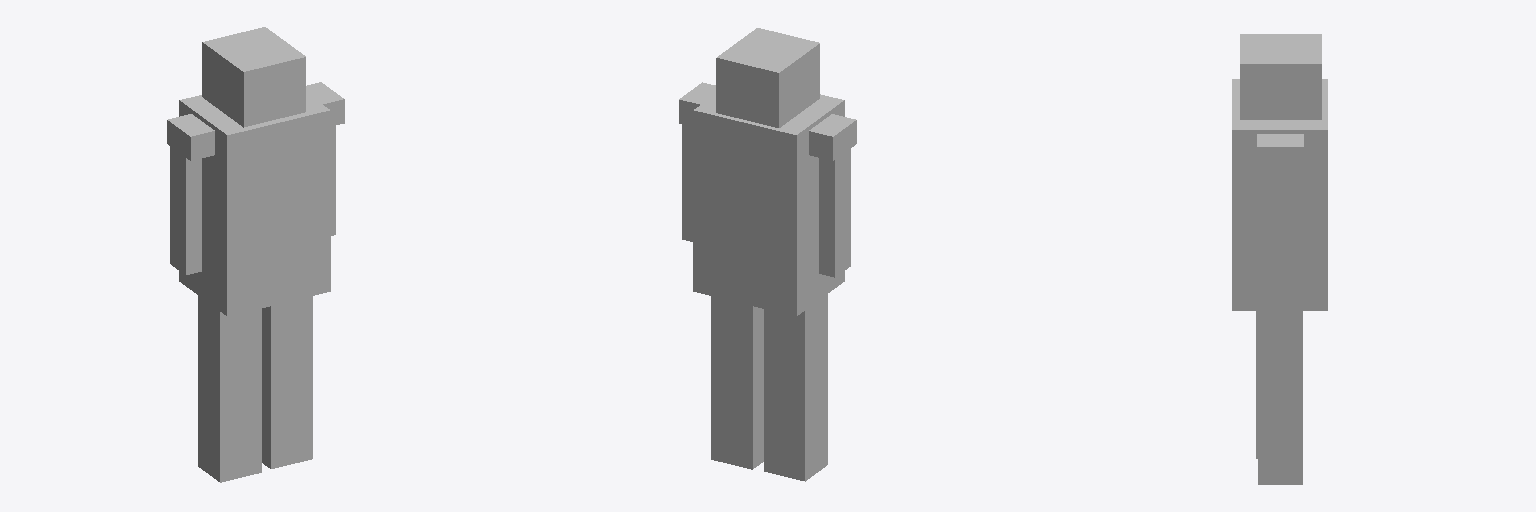
File: Player.obj
3 renders of one model, left to right at view 1: azimuth 30°, elevation 25°; view 2: azimuth 150°, elevation 25°; view 3: azimuth 270°, elevation 25°, orthographic.
Visible parts, largest first — view 1: RFoot_Cube.007; view 2: RFoot_Cube.007; view 3: RFoot_Cube.007.
Part boxes in pixels (x1,y1,x2,y2): RFoot_Cube.007: (167, 27, 344, 482); RFoot_Cube.007: (679, 28, 856, 481); RFoot_Cube.007: (1232, 34, 1327, 484).
Size of the model in its own units: 1.4 by 3.58 by 0.7571.